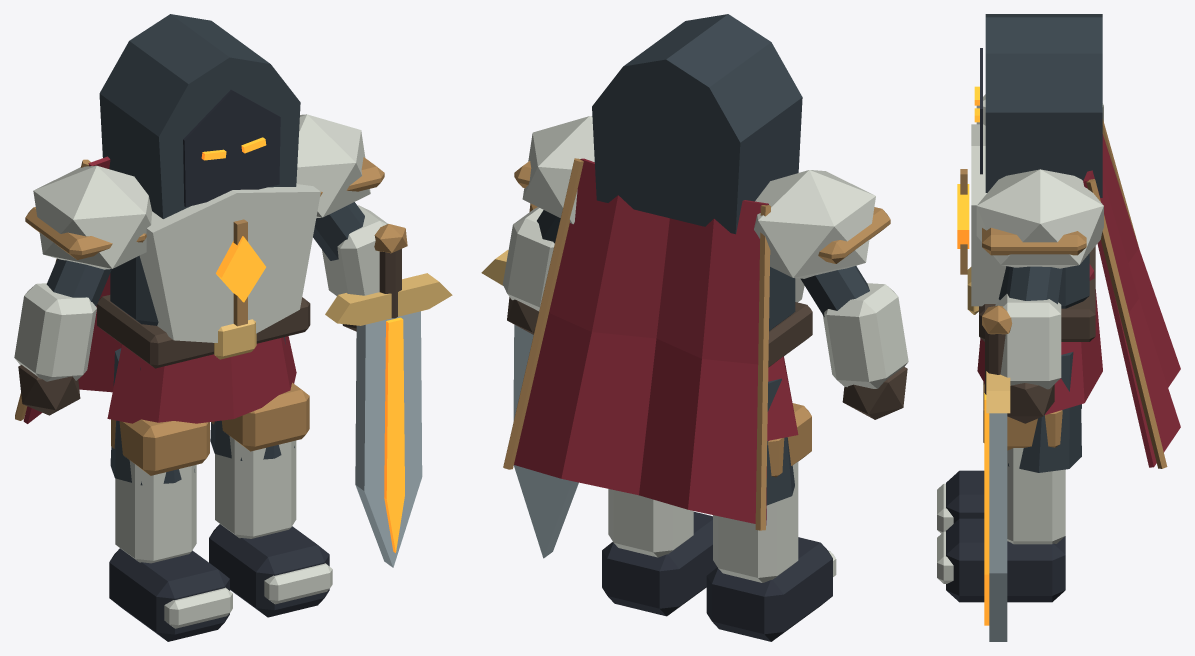
Rendered from player.glb.
The picture shows the model from 3 angles, left to right: view 1: azimuth 30°, elevation 25°; view 2: azimuth 150°, elevation 25°; view 3: azimuth 270°, elevation 25°; orthographic projection. The views are drawn at different scales.
Visible parts, largest first — view 1: player_body_mesh, player_head_mesh, player_leg_l_mesh, player_arm_l_mesh, player_weapon_mesh, player_leg_r_mesh, player_arm_r_mesh, player_cape_mesh; view 2: player_cape_mesh, player_head_mesh, player_arm_l_mesh, player_leg_l_mesh, player_leg_r_mesh, player_arm_r_mesh, player_body_mesh, player_weapon_mesh; view 3: player_head_mesh, player_arm_r_mesh, player_leg_r_mesh, player_cape_mesh, player_body_mesh, player_weapon_mesh, player_leg_l_mesh.
Part boxes in pixels (box(x1,y1,x2,y2)): player_body_mesh: box(97, 184, 320, 423); player_head_mesh: box(99, 14, 300, 218); player_leg_l_mesh: box(109, 348, 232, 641); player_arm_l_mesh: box(14, 165, 151, 415); player_weapon_mesh: box(325, 224, 452, 567); player_leg_r_mesh: box(209, 337, 332, 617); player_arm_r_mesh: box(296, 114, 387, 331); player_cape_mesh: box(15, 156, 121, 423); player_cape_mesh: box(503, 158, 770, 530); player_head_mesh: box(592, 14, 802, 234); player_arm_l_mesh: box(754, 170, 908, 419); player_leg_l_mesh: box(706, 366, 836, 641); player_leg_r_mesh: box(602, 489, 716, 616); player_arm_r_mesh: box(502, 116, 594, 334); player_body_mesh: box(767, 267, 812, 440); player_weapon_mesh: box(481, 203, 578, 558); player_head_mesh: box(974, 14, 1102, 197); player_arm_r_mesh: box(976, 169, 1103, 423); player_leg_r_mesh: box(937, 352, 1081, 602); player_cape_mesh: box(1083, 119, 1180, 468); player_body_mesh: box(957, 124, 1102, 415); player_weapon_mesh: box(982, 305, 1012, 641); player_leg_l_mesh: box(937, 382, 1081, 533).
Bounding box in the file's own units: 1.56 × 2.02 × 0.815.
